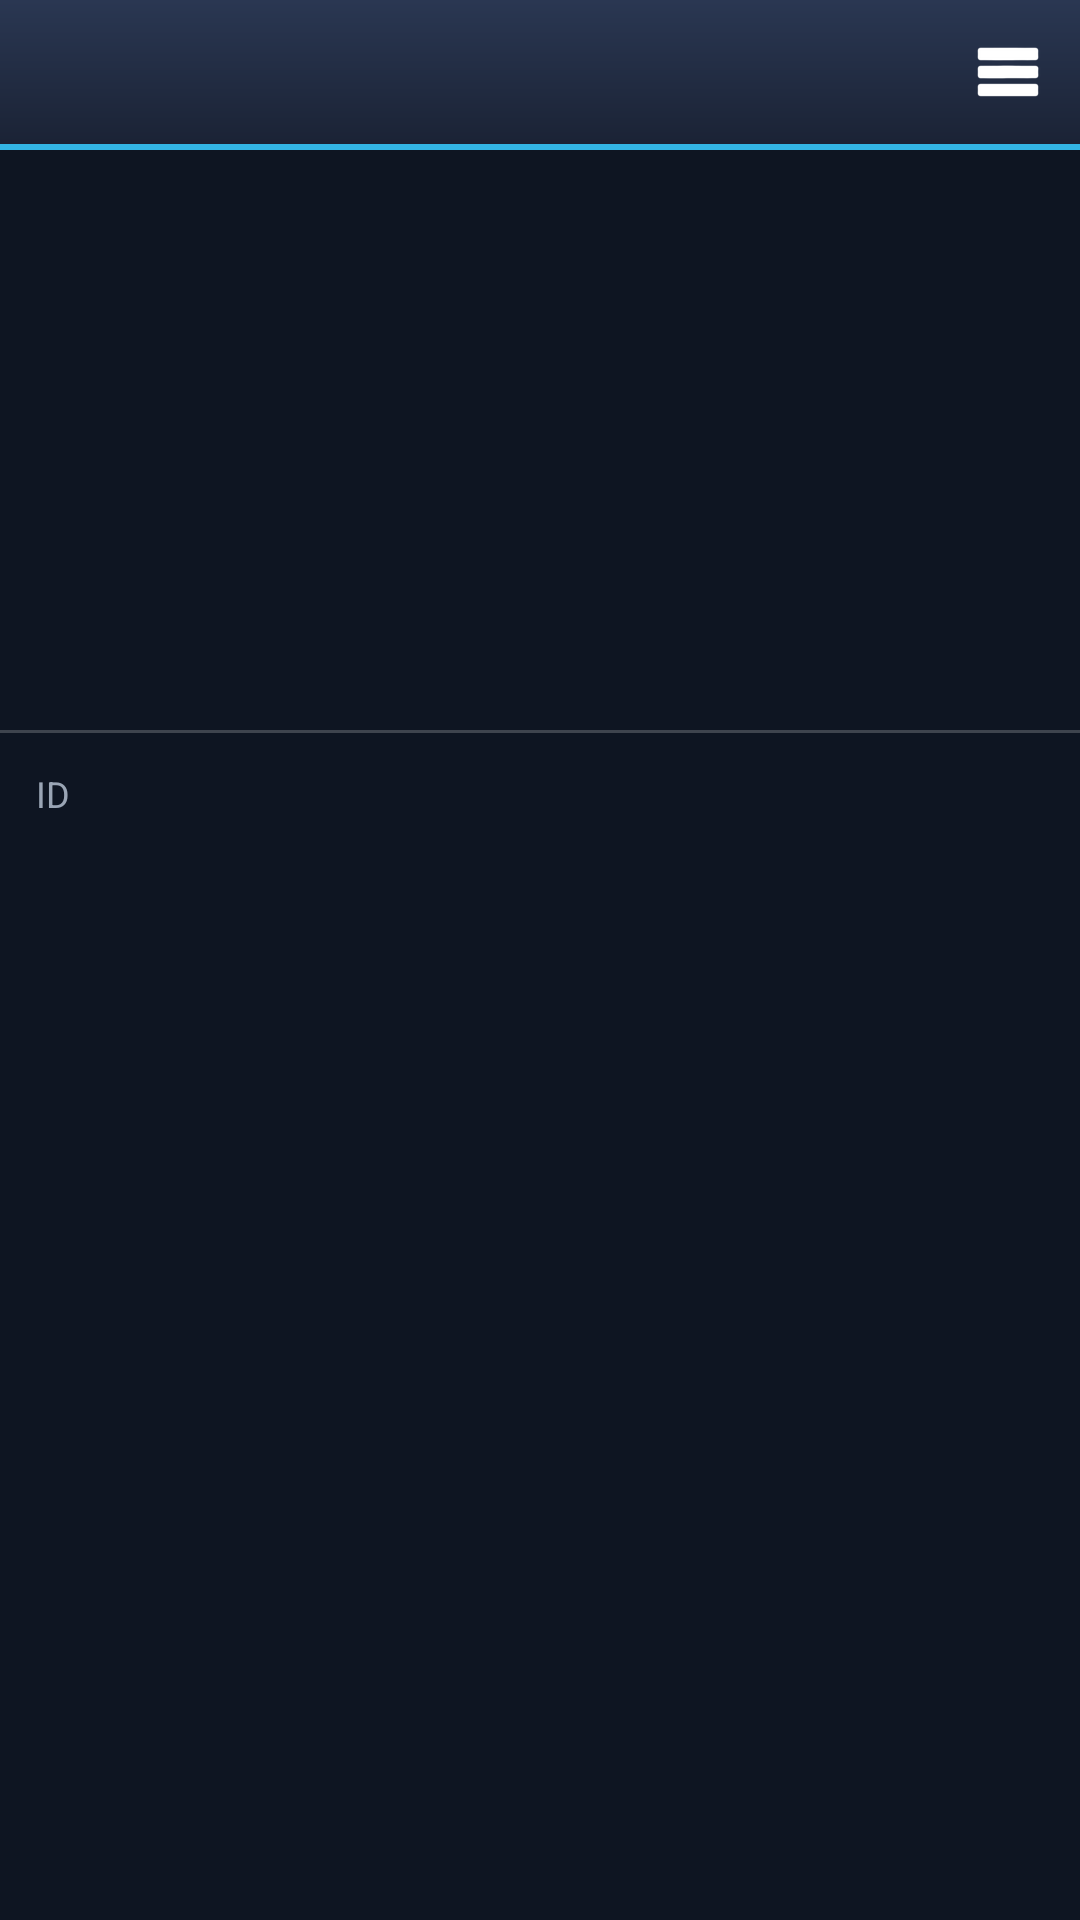

Icon click points for this 1080px×1920px phone screenshot, format (x=x, y=y):
Menu: (x=1008, y=72)
